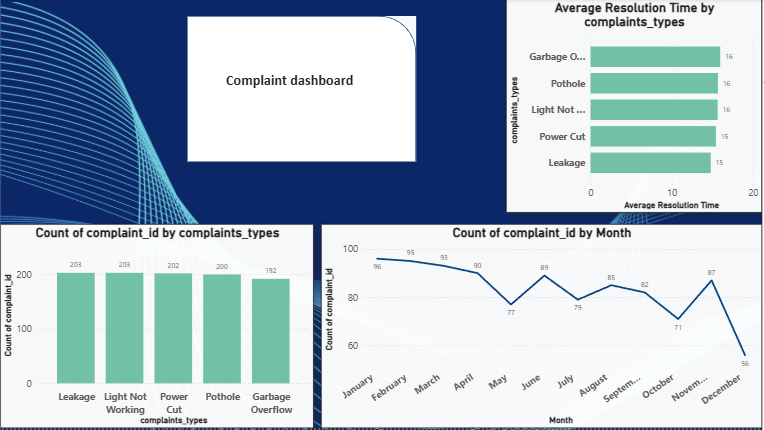

Layout of this report page (visuals, bound fields, positions):
{"tool":"powerbi","page":{"name":"complaint dashboard","canvas":[1280,720],"ordinal":4},"visuals":[{"type":"clusteredColumnChart","fields":{"Category":["Smart_city xlsx.complaints_types"],"Y":["CountNonNull(Smart_city xlsx.complaint_id)"]},"box":[0,378,527.5,342.7],"z":0},{"type":"clusteredBarChart","fields":{"Category":["Smart_city xlsx.complaints_types"],"Y":["Smart_city xlsx.Average Resolution Time"]},"box":[850,0,430,359.5],"z":1000},{"type":"lineChart","fields":{"Category":["Smart_city xlsx.complaint_date.Variation.Date Hierarchy.Month"],"Y":["CountNonNull(Smart_city xlsx.complaint_id)"]},"box":[539.2,378,740.8,342.7],"z":2000},{"type":"shape","box":[314.1,28.6,384.7,245.2],"z":2001},{"type":"textbox","box":[374.6,115.9,263.7,47],"z":2002}]}

Visuals, with their boxes in screenshot pixels (x1, y1, x2, y2), scaled from the page's 1280x720 canvas onto the 764x430 screenshot:
clusteredColumnChart - Smart_city xlsx.complaints_types x CountNonNull(Smart_city xlsx.complaint_id): (0, 226, 315, 429)
clusteredBarChart - Smart_city xlsx.complaints_types x Smart_city xlsx.Average Resolution Time: (507, 0, 763, 215)
lineChart - Smart_city xlsx.complaint_date.Variation.Date Hierarchy.Month x CountNonNull(Smart_city xlsx.complaint_id): (322, 226, 763, 429)
shape: (187, 17, 417, 164)
textbox: (224, 69, 381, 97)
